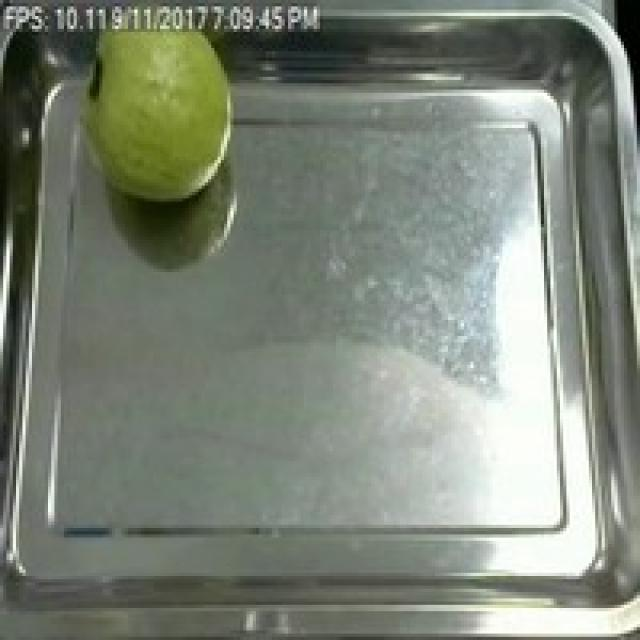Fruit: (64, 3, 246, 215)
